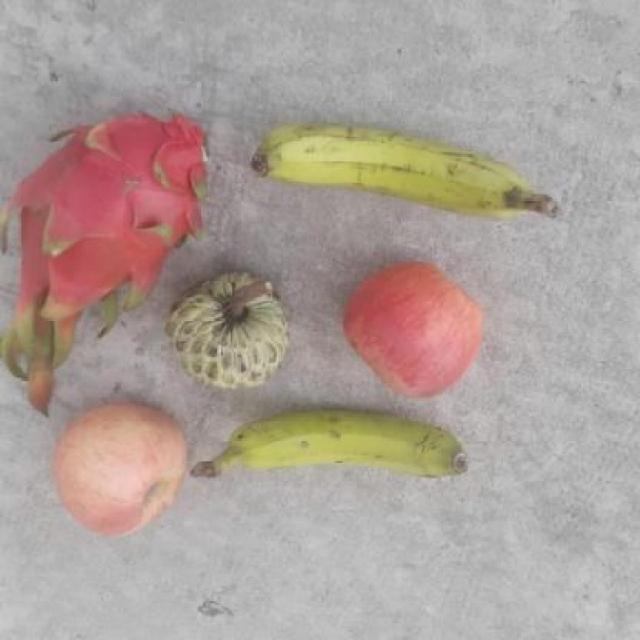apple: (49, 399, 193, 543), (348, 254, 484, 398)
banana: (245, 118, 526, 224), (217, 404, 471, 490)
dragon fruit: (20, 98, 217, 338)
sugar apple: (161, 266, 296, 396)
